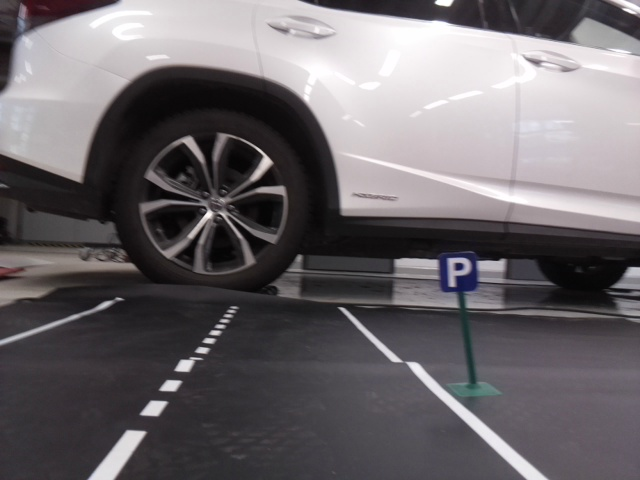Parking: (438, 254, 476, 291)
